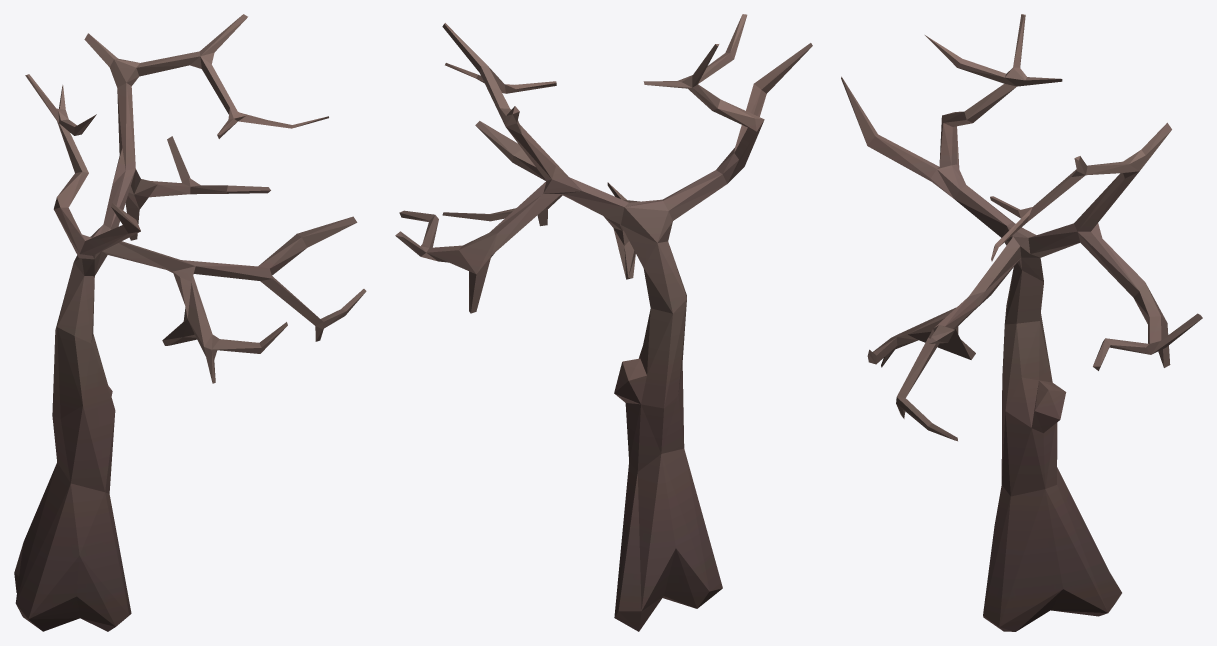
The model's file is tree-6.glb.
The picture shows the model from 3 angles, left to right: view 1: azimuth 30°, elevation 25°; view 2: azimuth 150°, elevation 25°; view 3: azimuth 270°, elevation 25°; orthographic projection. The views are drawn at different scales.
Visible parts, largest first — view 1: tree6; view 2: tree6; view 3: tree6.
Part boxes in pixels (x1,y1,x2,y2): tree6: [14, 14, 366, 631]; tree6: [395, 14, 812, 631]; tree6: [841, 14, 1202, 631].
Bounding box in the file's own units: 2.38 × 4.12 × 2.32.
1 material, 1 textured.
